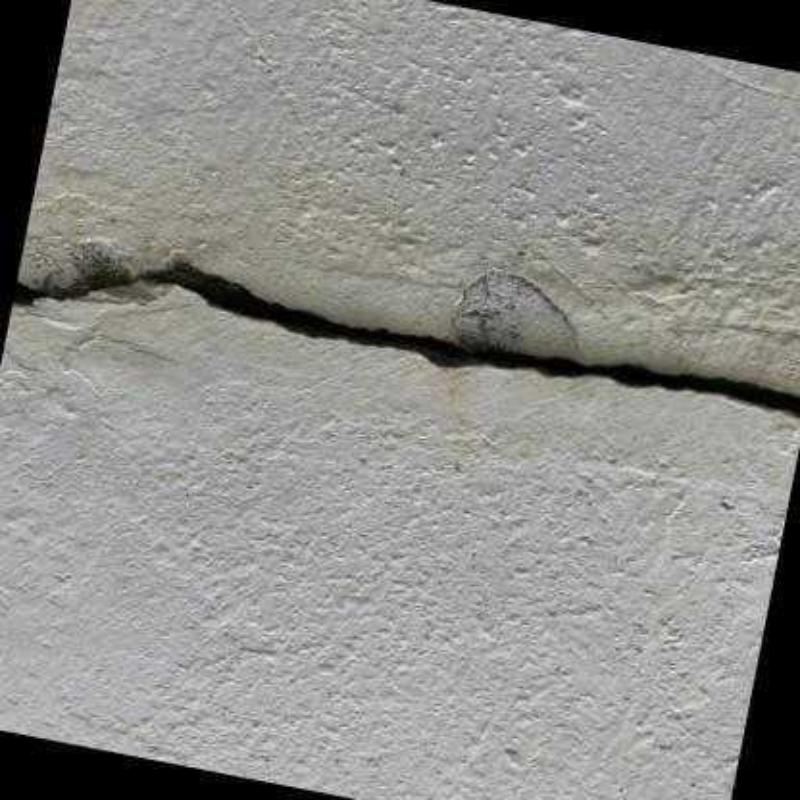pothole: (12, 259, 800, 416)
